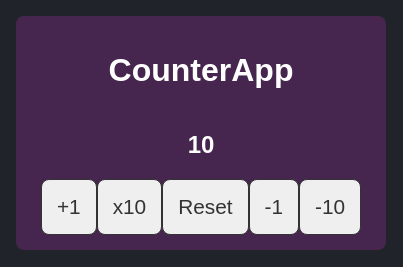
it: File: <Counter> › #4 Test: ( must decrement in 1 unity with the button ´-1´ )
Click the button "-1" at (274, 207), box x1=248 y1=179 x2=299 y2=235
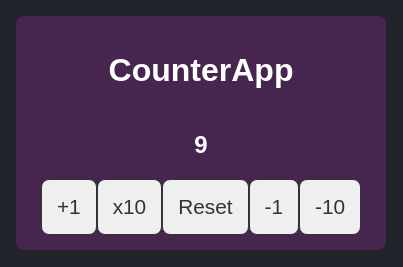
Now the heading "9" is shown, box x1=194 y1=131 x2=208 y2=159
